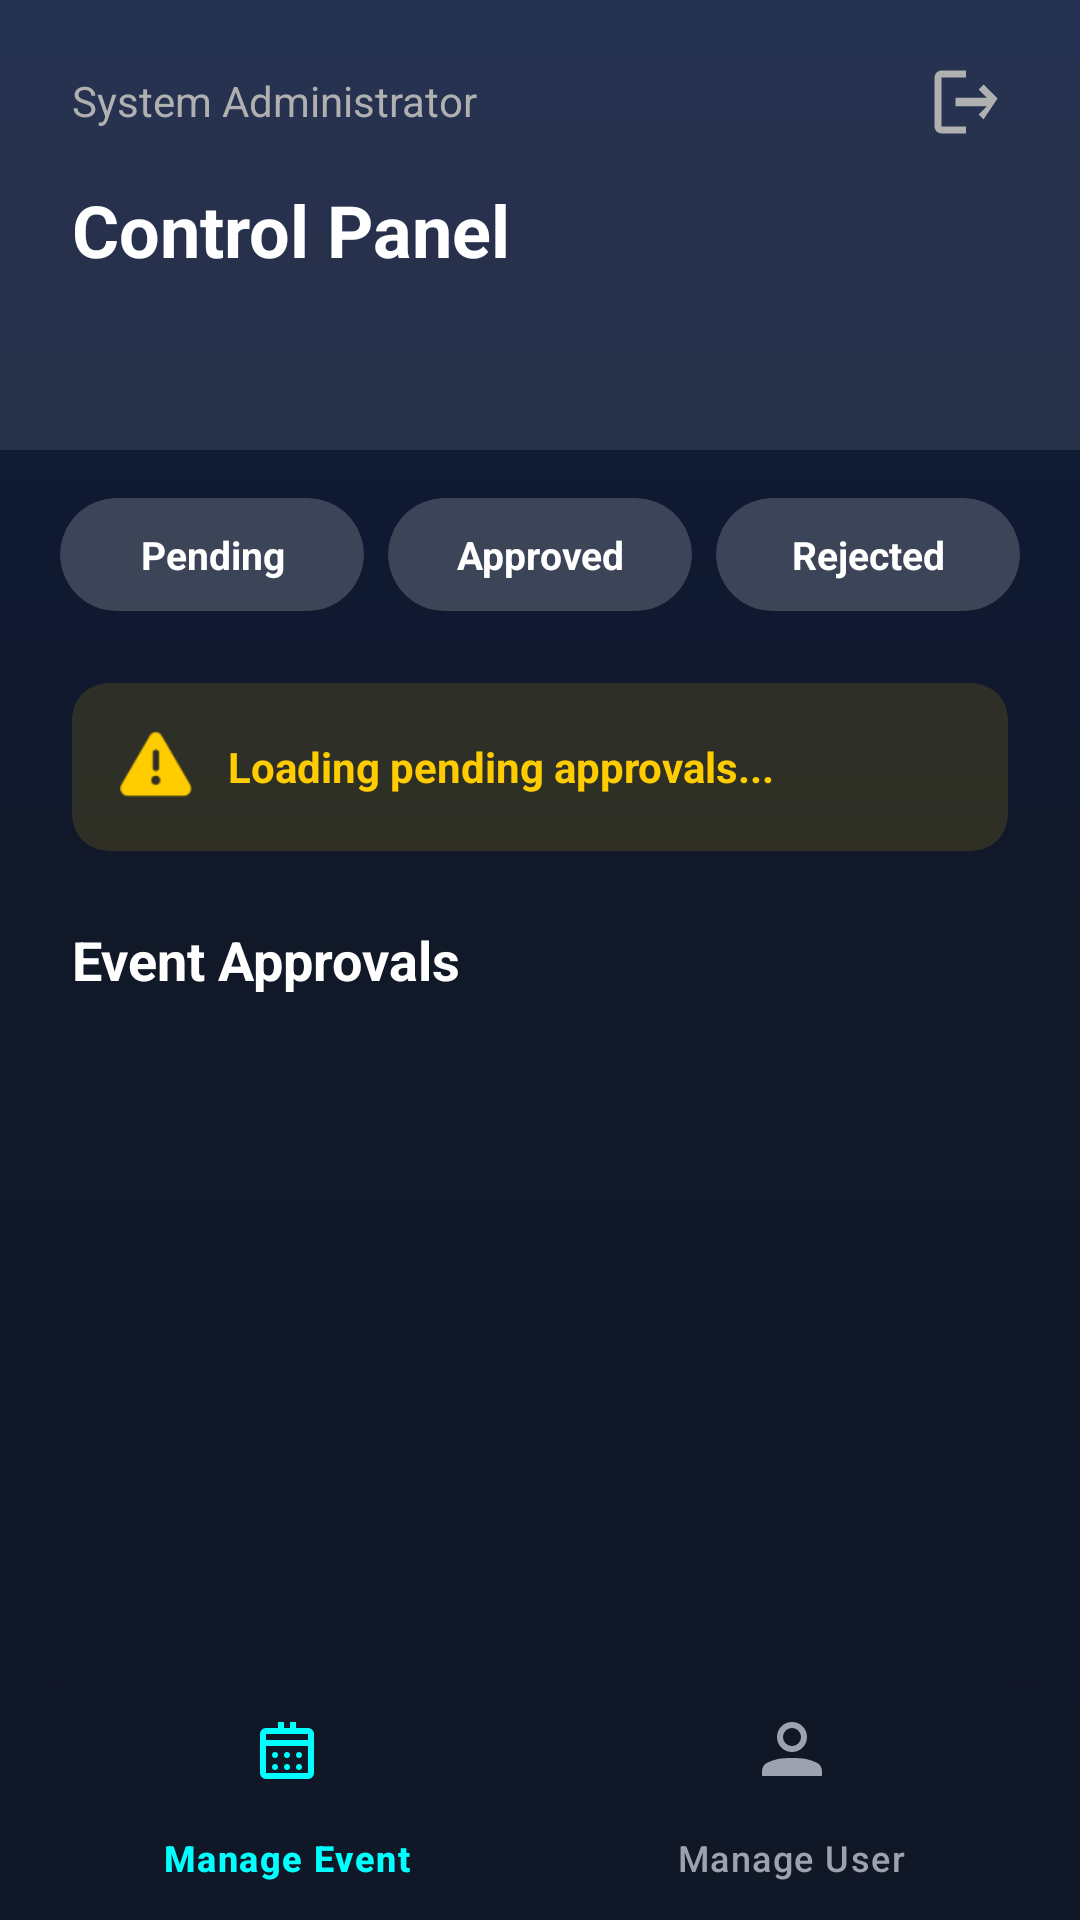

Locate icon controls on the screen. Image size 1080 × 1920, boxes as Rect(x1, y1, x2, y2).
alert: Rect(120, 731, 192, 797)
